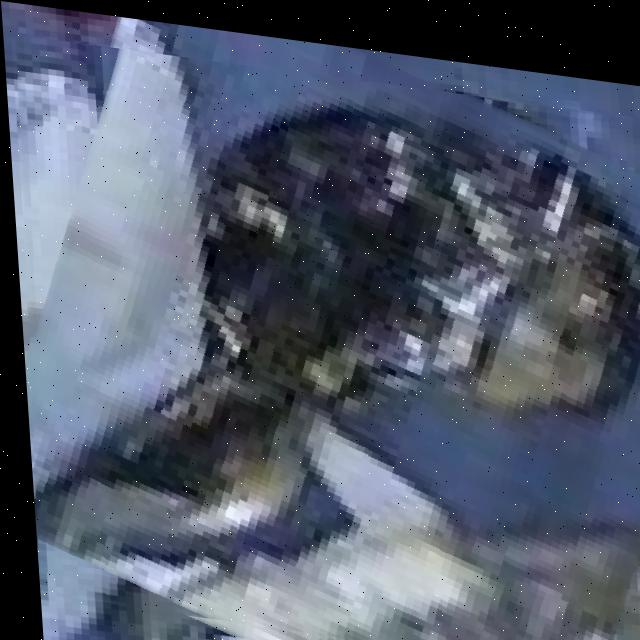can: (26, 76, 640, 613)
